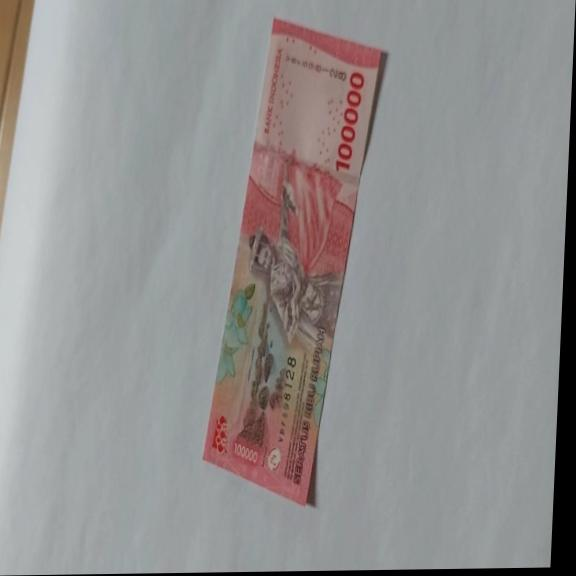Kertas: (199, 14, 390, 508), (335, 70, 365, 173)
